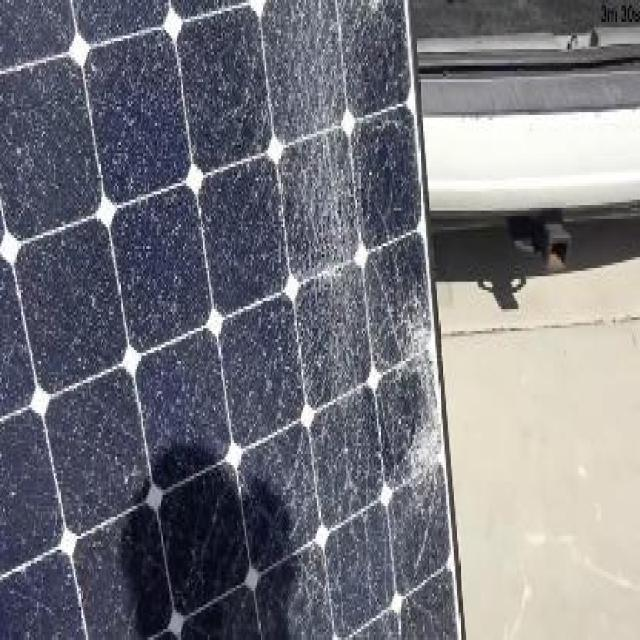cracked: (4, 2, 453, 630)
